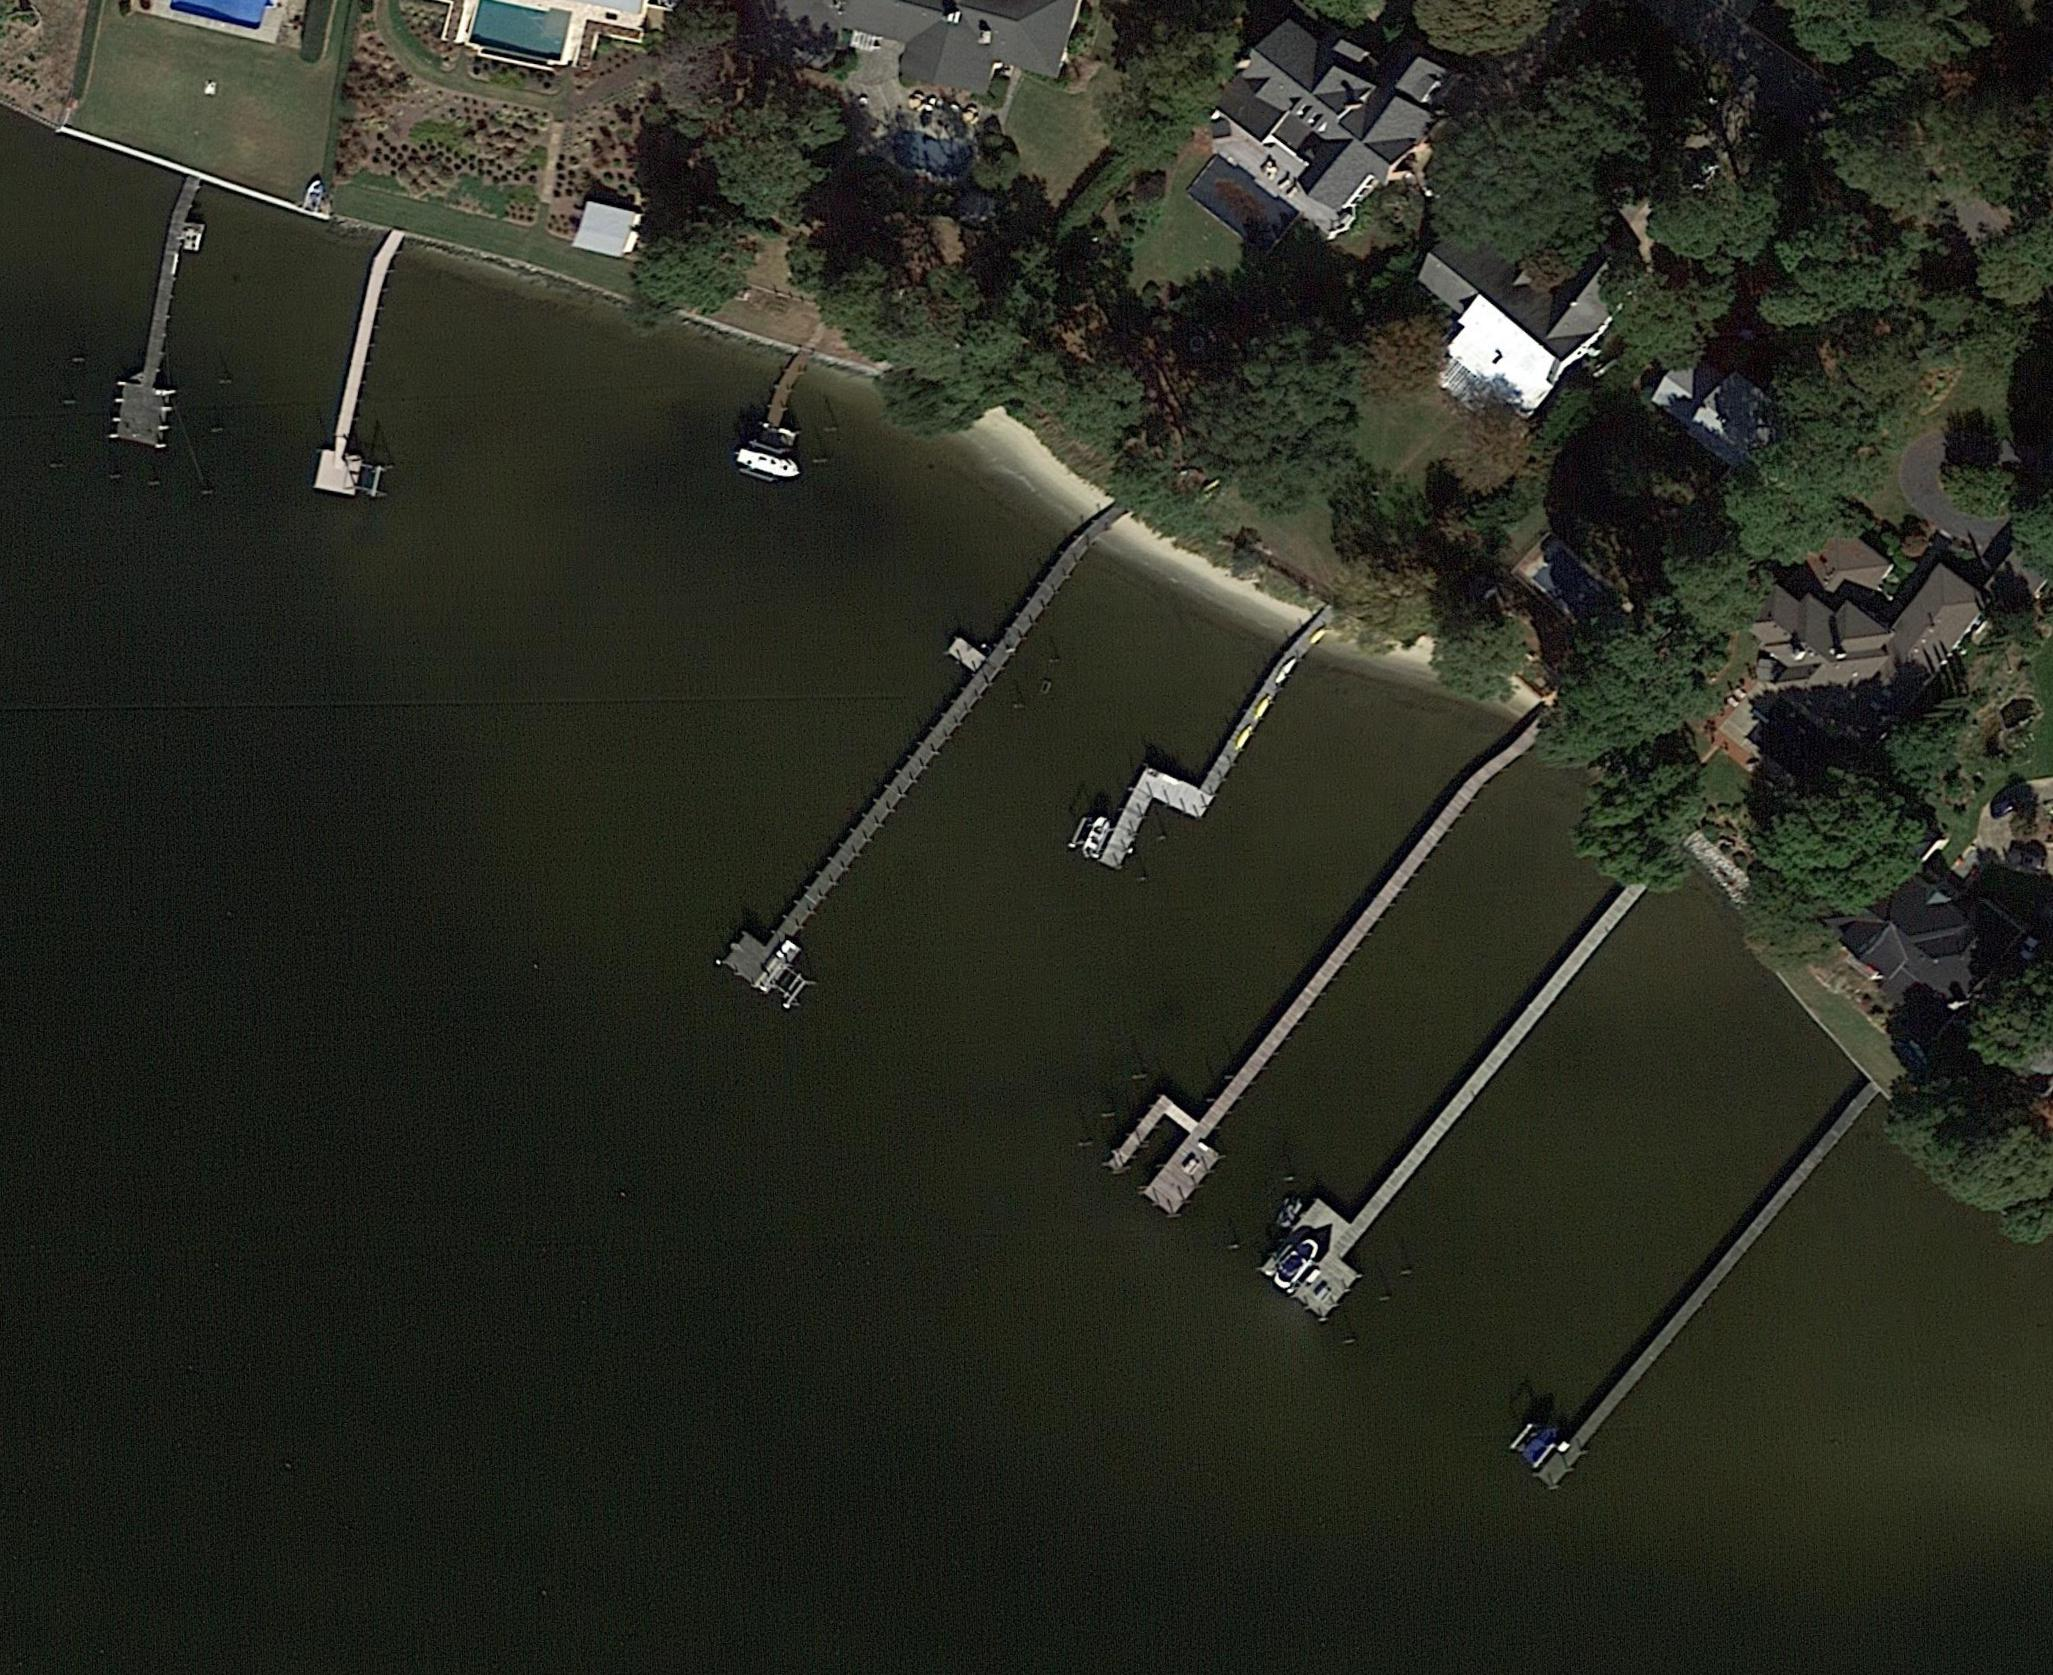harbor: (1100, 717, 1535, 1223), (1258, 870, 1659, 1322), (722, 580, 1062, 1012), (1506, 1085, 1865, 1492), (1068, 616, 1301, 902), (114, 187, 211, 450), (312, 257, 408, 499), (763, 351, 810, 429)
ship: (1270, 1231, 1327, 1292), (727, 440, 806, 483), (1074, 812, 1117, 863), (1519, 1420, 1562, 1467), (751, 422, 797, 455), (303, 175, 323, 213)
